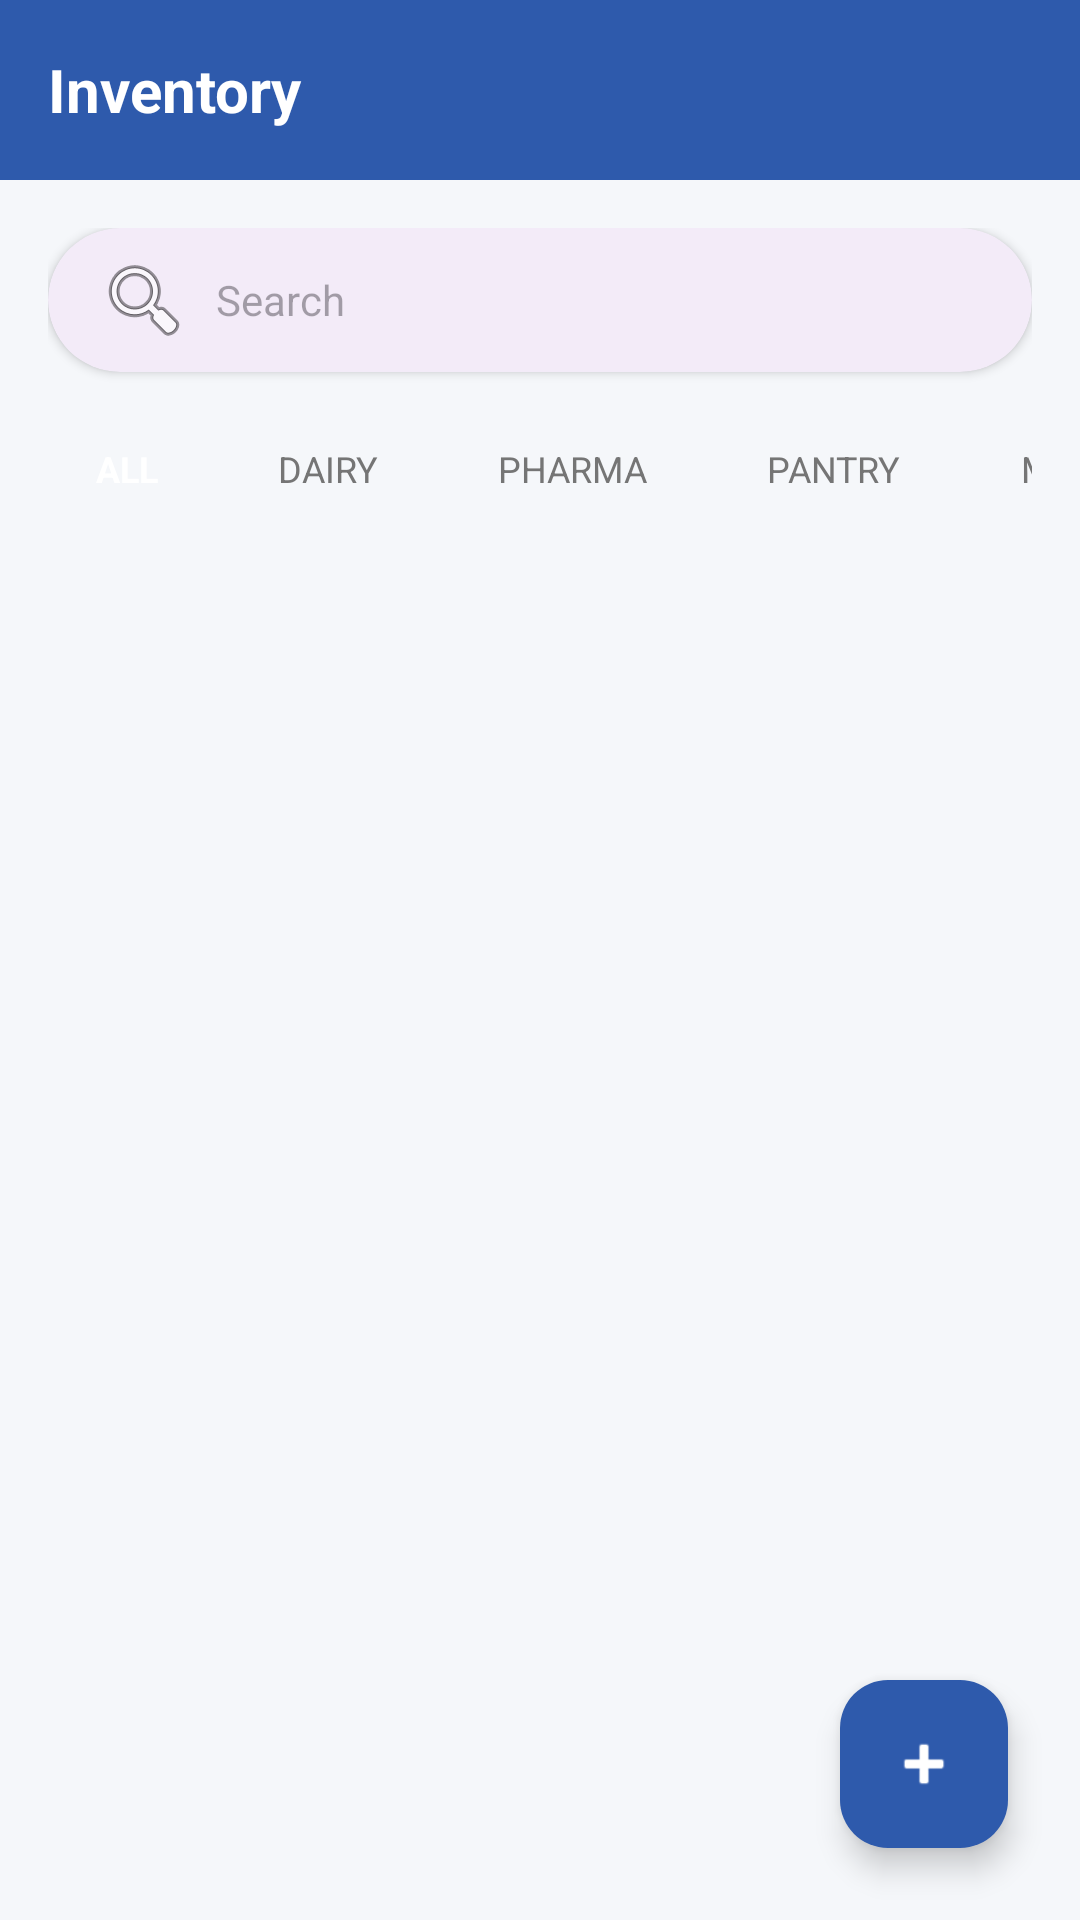

Named icons in this screenshot (1080px x 1920px) and their bounding boxes, [x1=x1, y1=y1, x2=x2, y2=y2]:
Add New Item: [x1=840, y1=1680, x2=1008, y2=1848]
